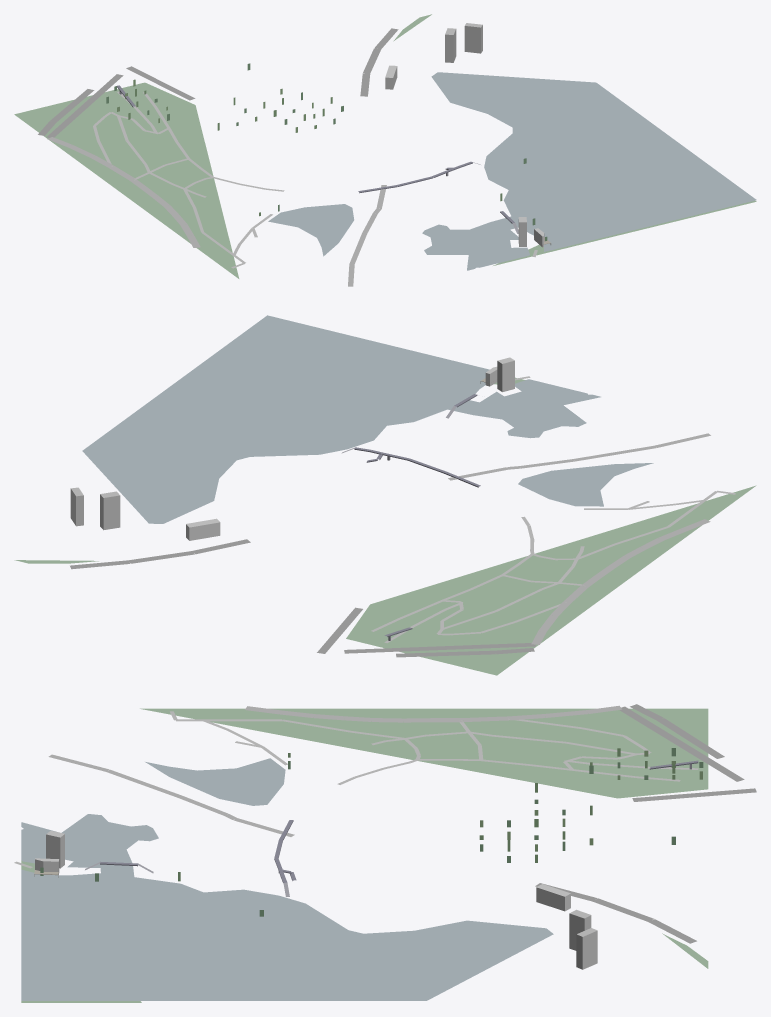
3 renders of one model, top to bottom at view 1: azimuth 30°, elevation 25°; view 2: azimuth 150°, elevation 25°; view 3: azimuth 270°, elevation 25°, orthographic. The views are drawn at different scales.
Size of the model in its own units: 505 by 29.18 by 541.
